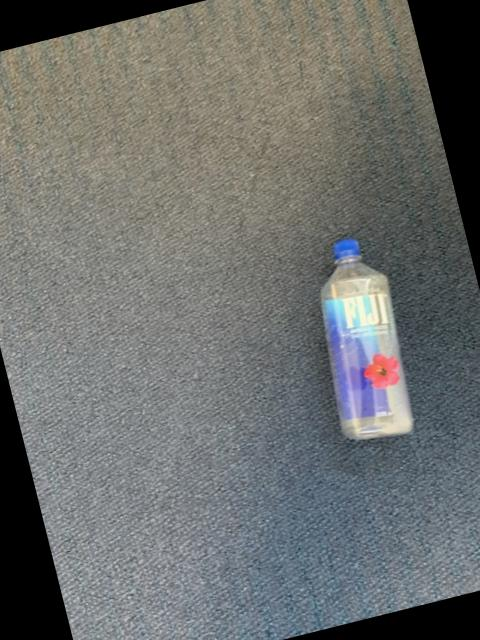plastic: (322, 239, 413, 439)
